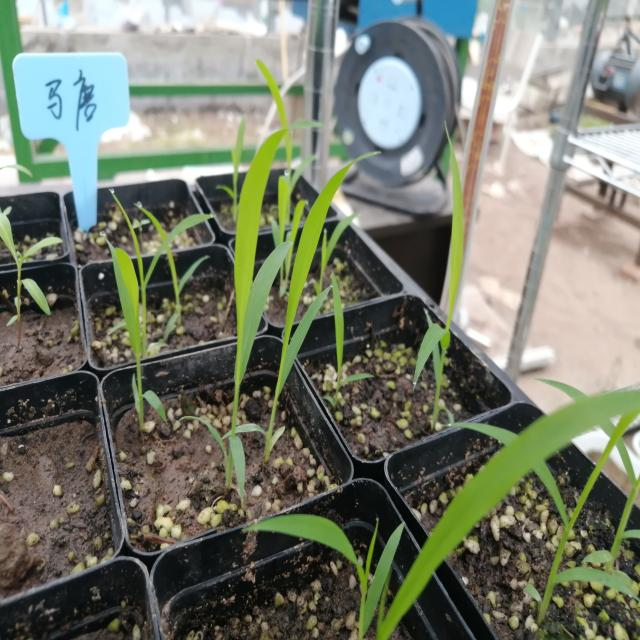crabgrass: (206, 92, 344, 464)
